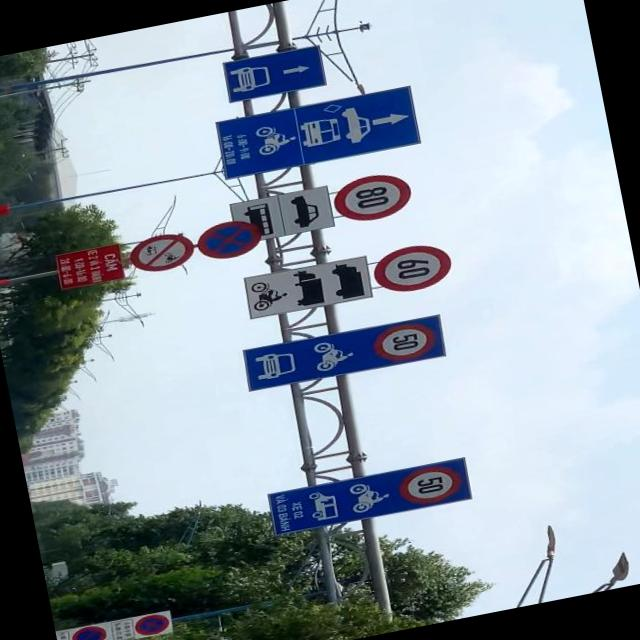P-127: (332, 169, 416, 224), (371, 241, 455, 295)
P-130: (194, 216, 264, 264)
